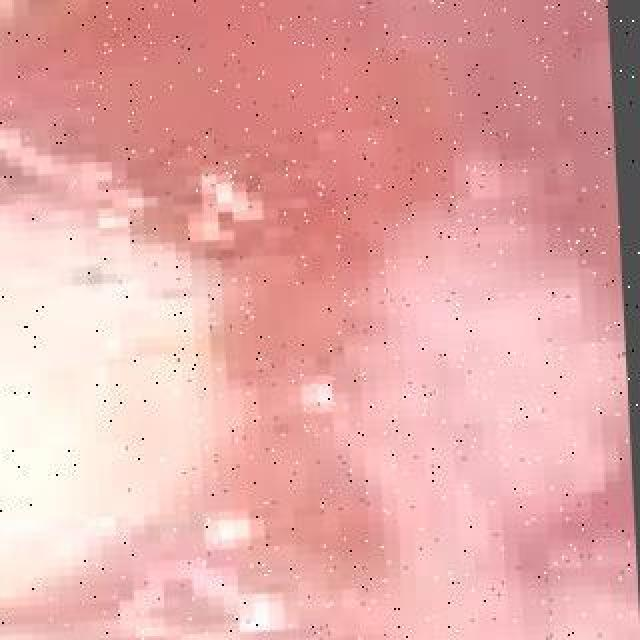plaque: (0, 158, 250, 586)
